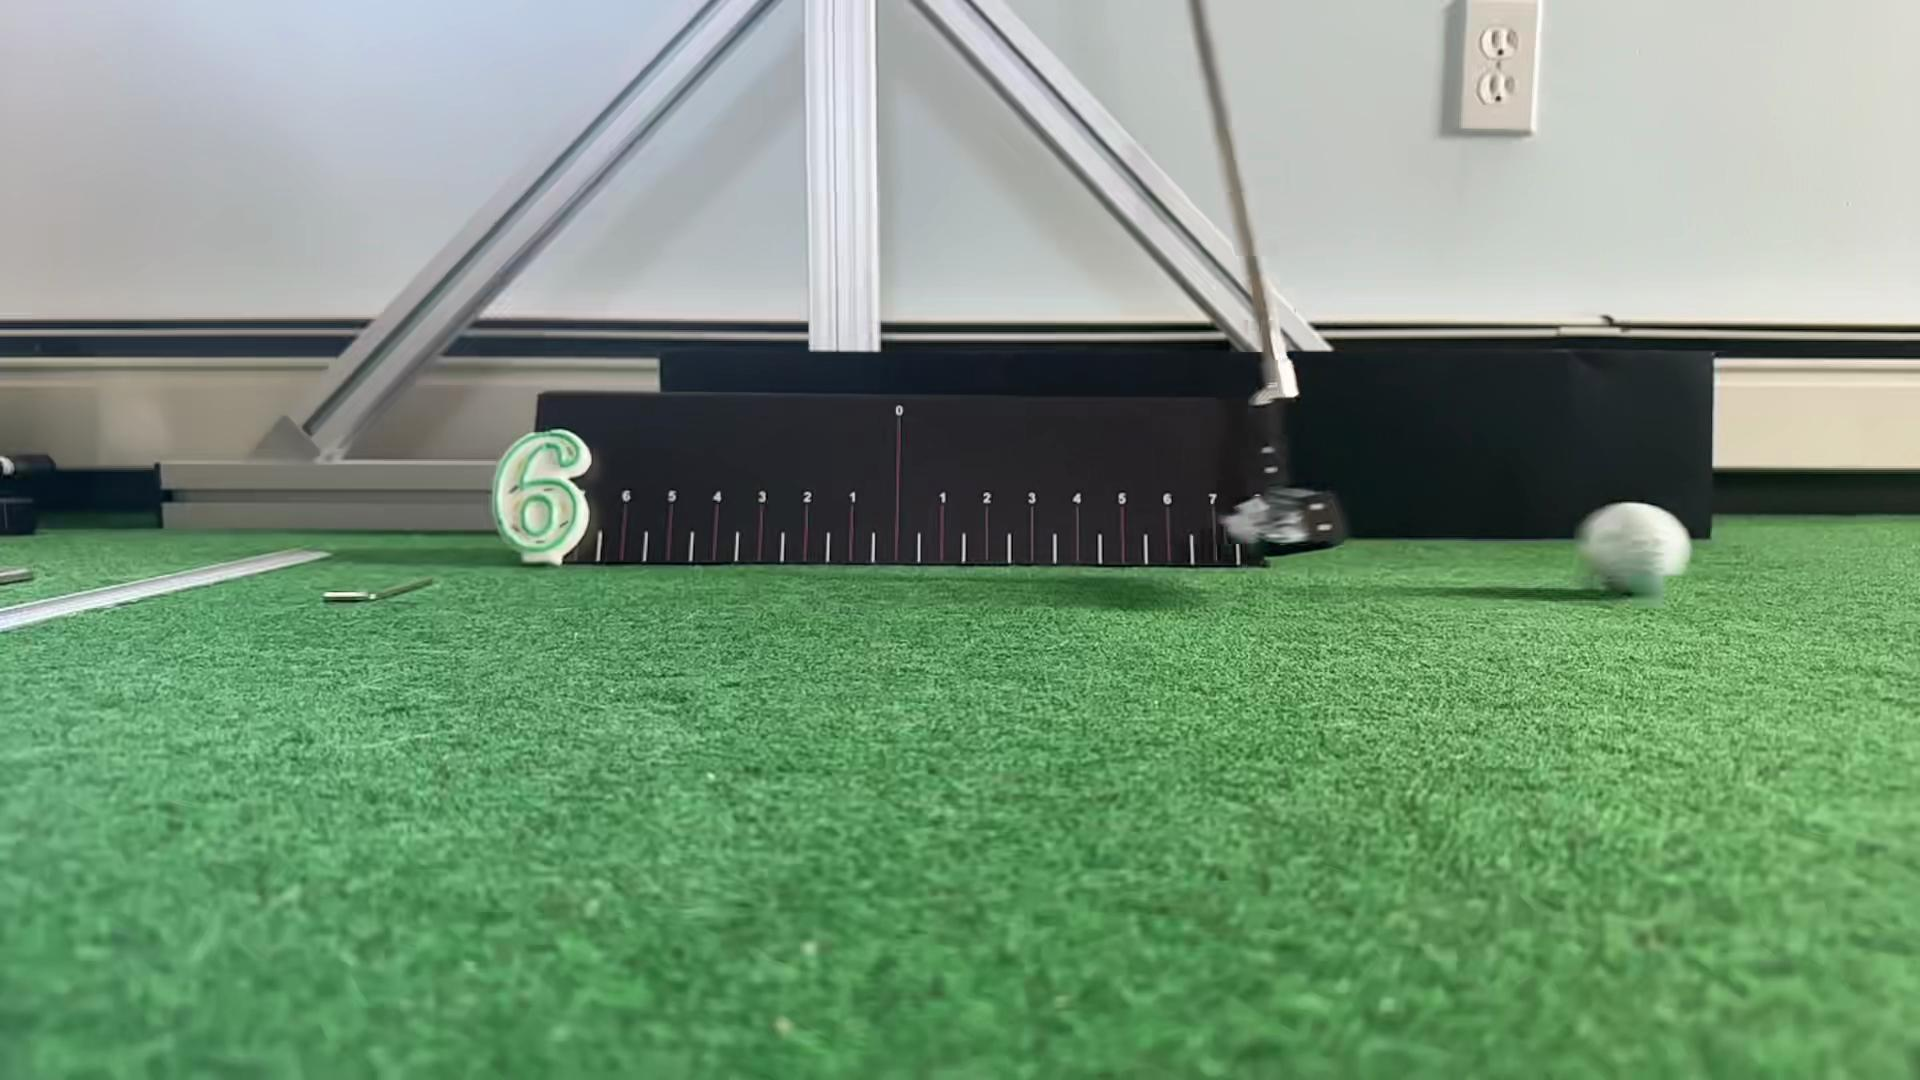golfball: (1584, 502, 1690, 596)
